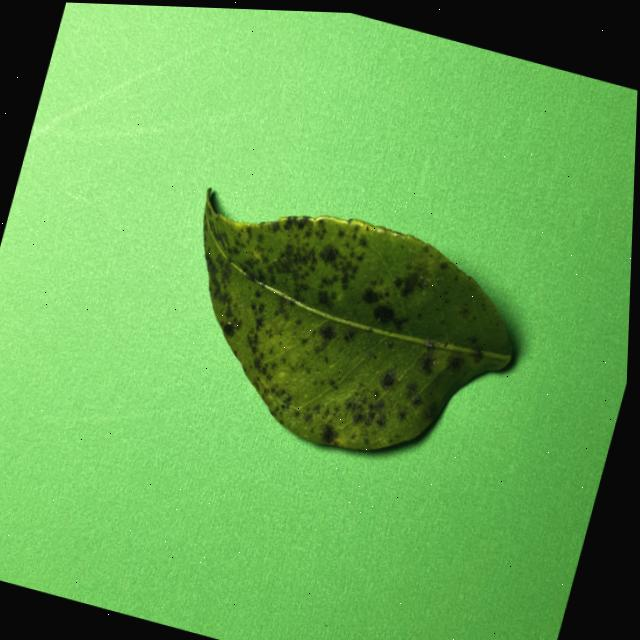sooty_mold: (203, 192, 505, 448)
